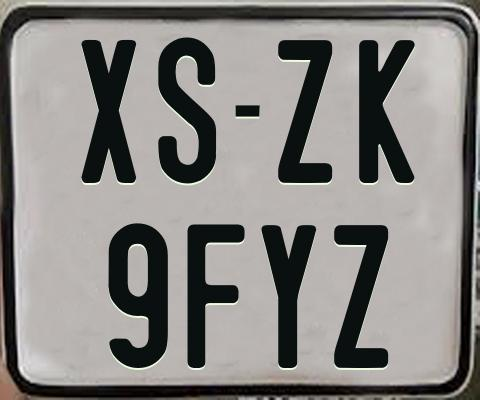9: (107, 223, 168, 372)
F: (187, 222, 248, 370)
K: (359, 39, 415, 183)
S: (155, 34, 218, 180)
X: (81, 37, 137, 183)
Y: (261, 224, 322, 372)
Z: (277, 37, 337, 185), (331, 224, 388, 370)
